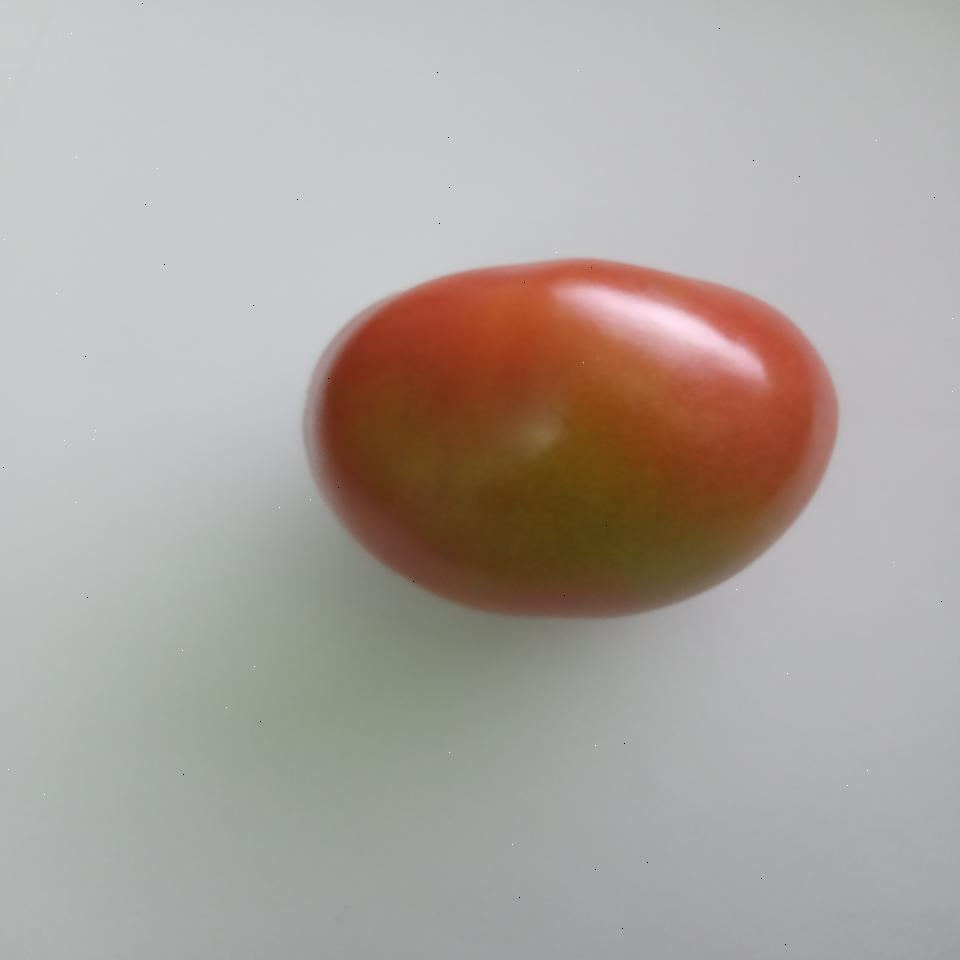Healthy: (294, 243, 846, 634)
